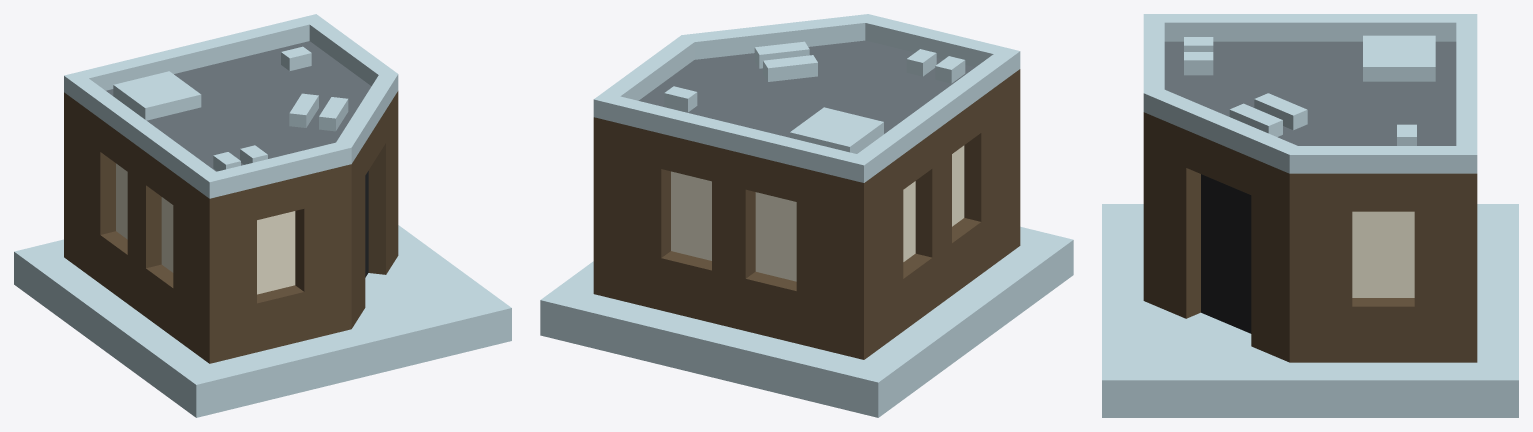
The model's file is Building_10_Base_Extra (Brown).obj.
The picture shows the model from 3 angles, left to right: view 1: azimuth 30°, elevation 25°; view 2: azimuth 150°, elevation 25°; view 3: azimuth 270°, elevation 25°; orthographic projection. The views are drawn at different scales.
Visible parts, largest first — view 1: Building_10_Base_Extra_(Brown); view 2: Building_10_Base_Extra_(Brown); view 3: Building_10_Base_Extra_(Brown).
Boxes of the visible parts, <box> form: Building_10_Base_Extra_(Brown): <box>14,14,511,417</box>; Building_10_Base_Extra_(Brown): <box>540,14,1073,417</box>; Building_10_Base_Extra_(Brown): <box>1102,14,1518,417</box>.
Size of the model in its own units: 2 by 1.3 by 2.
